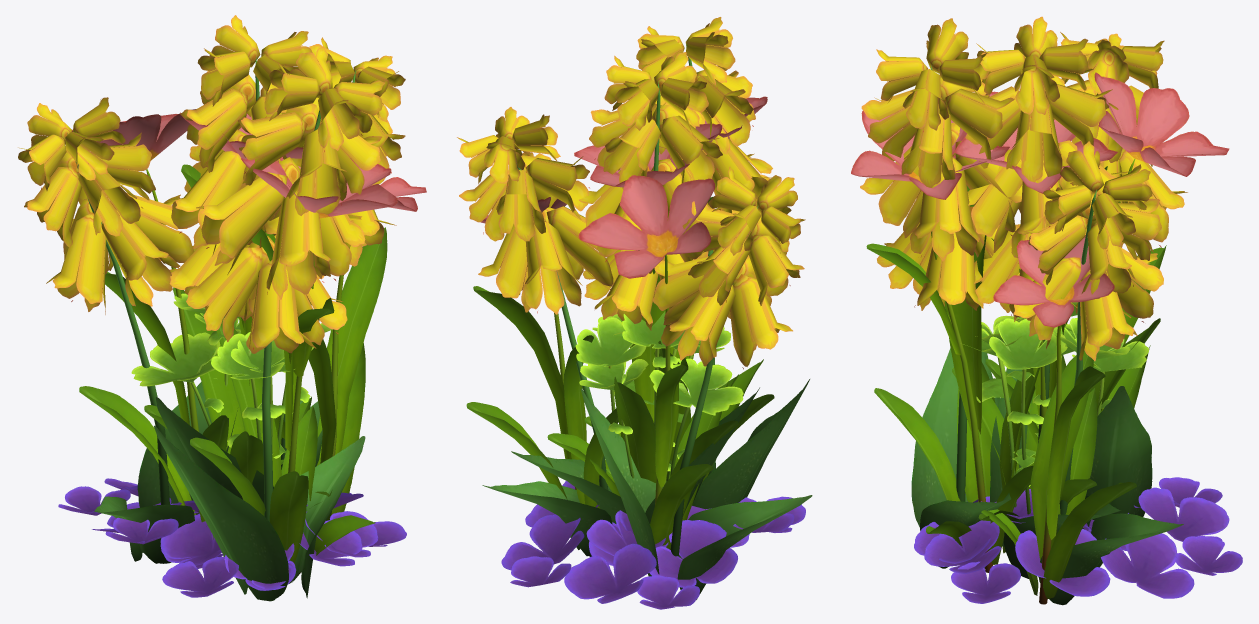
File: megakit-flowers.glb
The picture shows the model from 3 angles, left to right: view 1: azimuth 30°, elevation 25°; view 2: azimuth 150°, elevation 25°; view 3: azimuth 270°, elevation 25°; orthographic projection. The views are drawn at different scales.
Visible parts, largest first — view 1: Flower_4_Group, Flower_3_Group, Flower_4_Single, Plant_7_Big, Clover_2, Flower_3_Single, Plant_7, Clover_1; view 2: Flower_4_Group, Flower_3_Group, Flower_4_Single, Plant_7_Big, Flower_3_Single, Clover_2, Clover_1, Plant_7; view 3: Flower_4_Group, Flower_3_Group, Flower_4_Single, Plant_7_Big, Clover_2, Flower_3_Single, Plant_7, Clover_1.
Part boxes in pixels (<box>): Flower_4_Group: <box>18,37,405,601</box>; Flower_3_Group: <box>72,109,426,582</box>; Flower_4_Single: <box>156,15,324,556</box>; Plant_7_Big: <box>58,478,406,597</box>; Clover_2: <box>131,293,332,454</box>; Flower_3_Single: <box>144,112,340,505</box>; Plant_7: <box>160,492,378,590</box>; Clover_1: <box>135,316,313,458</box>; Flower_4_Group: <box>457,17,812,599</box>; Flower_3_Group: <box>466,96,774,549</box>; Flower_4_Single: <box>511,52,759,523</box>; Plant_7_Big: <box>501,481,805,609</box>; Flower_3_Single: <box>547,123,738,496</box>; Clover_2: <box>579,311,741,480</box>; Clover_1: <box>575,317,743,471</box>; Plant_7: <box>525,481,748,565</box>; Flower_4_Group: <box>860,18,1187,605</box>; Flower_3_Group: <box>851,72,1229,604</box>; Flower_4_Single: <box>957,16,1130,578</box>; Plant_7_Big: <box>914,477,1242,603</box>; Clover_2: <box>975,302,1148,514</box>; Flower_3_Single: <box>952,91,1160,521</box>; Plant_7: <box>919,489,1126,596</box>; Clover_1: <box>963,318,1129,507</box>.
Bounding box in the file's own units: 1.81 × 2.49 × 1.64.
Materials: 2 (2 with a texture image).
